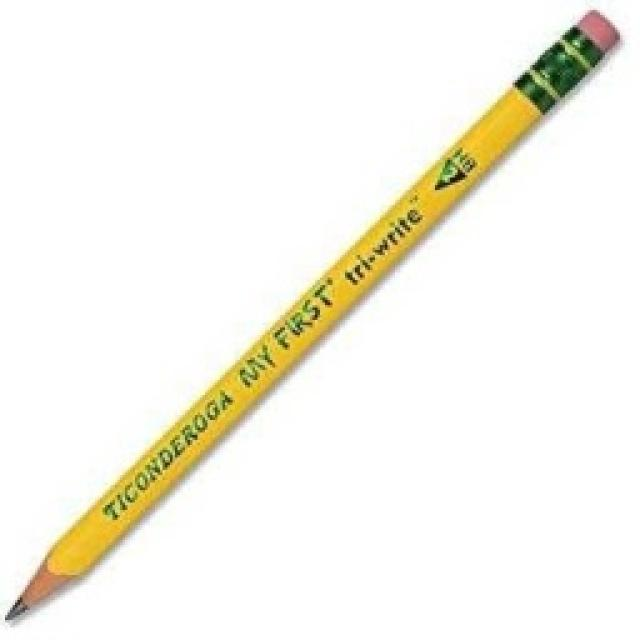pencil: (0, 3, 625, 625)
